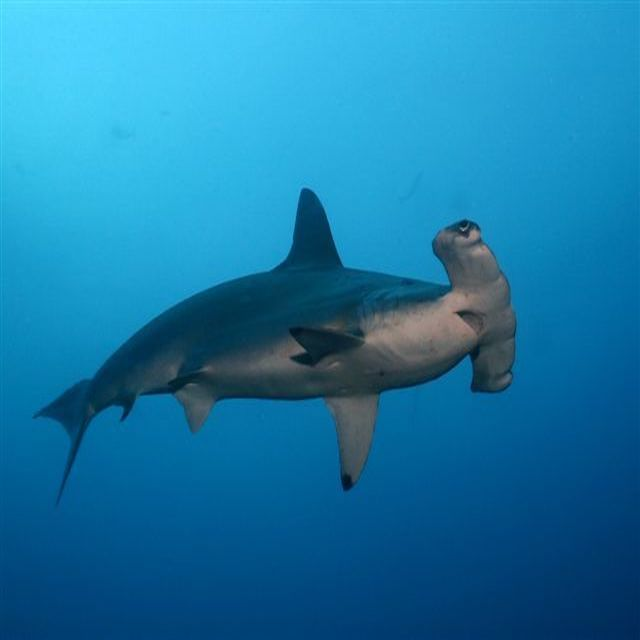hammerhead: (266, 174, 548, 411)
